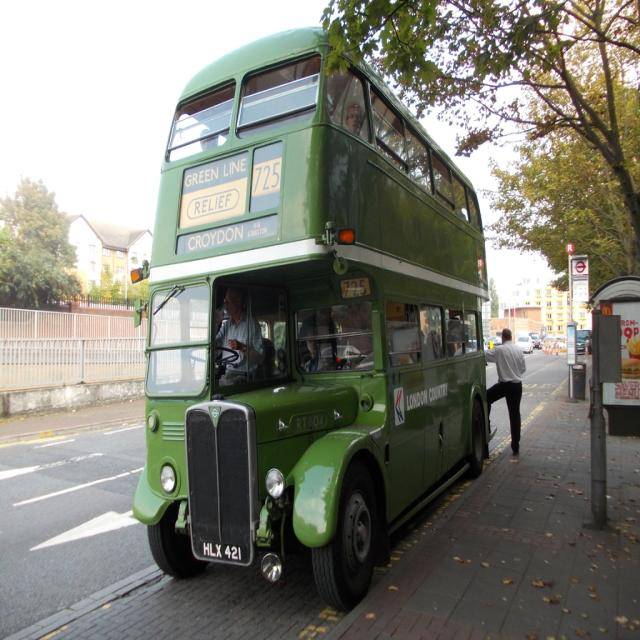Buses: (130, 26, 492, 612)
Pedestrians: (482, 321, 532, 462)
